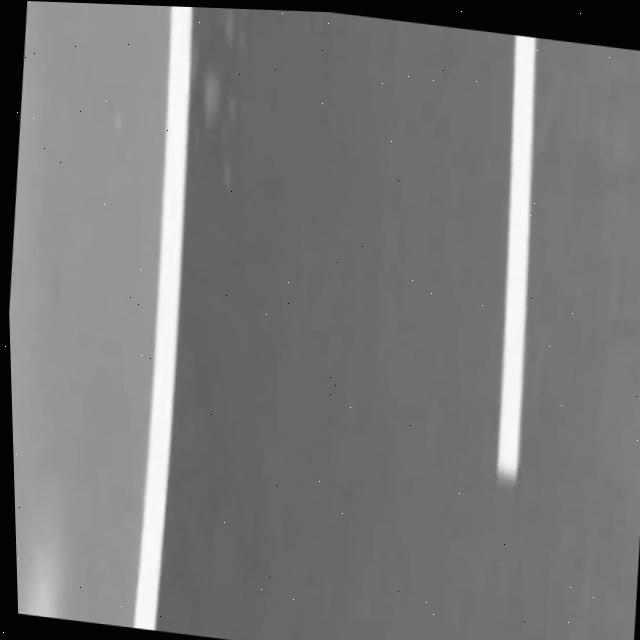center: (497, 35, 536, 481)
right: (133, 6, 192, 630)
